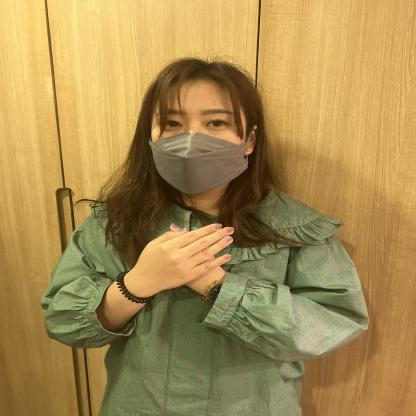Grieve: (58, 191, 306, 367)
